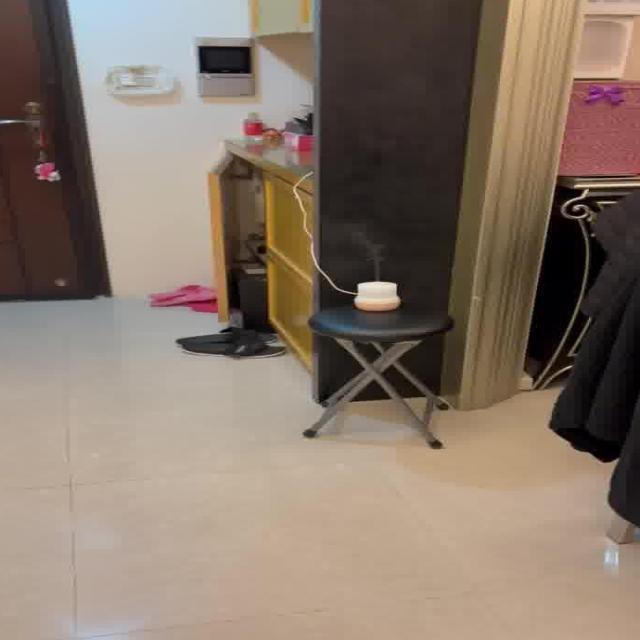fire: (336, 223, 398, 274)
